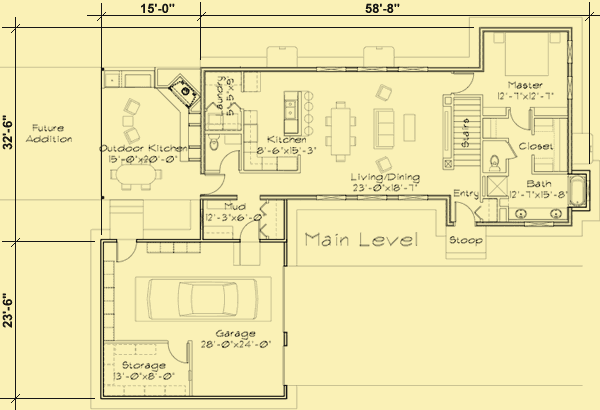bed: (493, 30, 564, 79)
dining table: (324, 98, 358, 164), (107, 159, 163, 191)
door: (449, 69, 475, 96), (114, 236, 139, 264), (452, 198, 476, 226), (166, 336, 189, 365), (507, 106, 533, 131), (237, 217, 260, 245), (201, 172, 226, 195), (217, 148, 240, 171)
kitchen bar: (279, 88, 314, 140)
large sink: (484, 155, 503, 174), (207, 133, 224, 151)
large sofa: (371, 105, 395, 152)
small sink: (507, 205, 569, 222)
small sofa: (375, 154, 395, 176), (122, 96, 143, 116), (375, 81, 393, 102), (122, 127, 140, 144)
stairs: (442, 93, 481, 173), (110, 198, 147, 240)
tub: (569, 173, 587, 206)
windows: (312, 64, 430, 76), (314, 193, 430, 202), (566, 34, 576, 106)
